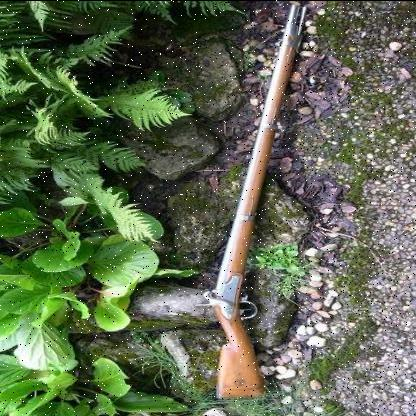rifle: (193, 2, 318, 404)
